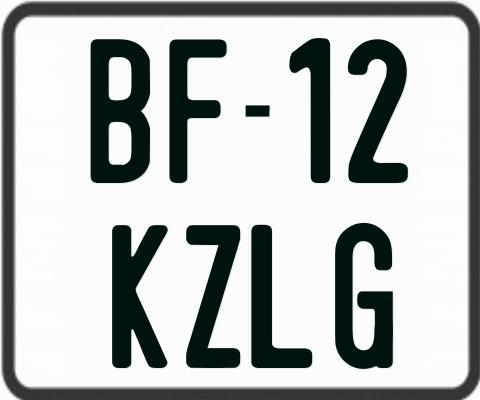1: (287, 35, 332, 180)
2: (347, 38, 409, 186)
B: (90, 38, 152, 187)
F: (169, 39, 230, 184)
G: (333, 222, 396, 374)
K: (111, 223, 168, 369)
L: (248, 223, 309, 372)
Z: (183, 224, 238, 369)
